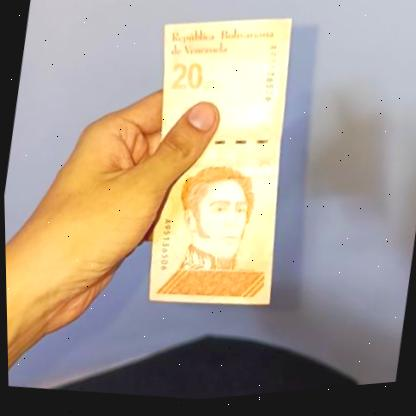twenty-front-vef: (120, 2, 311, 325)
